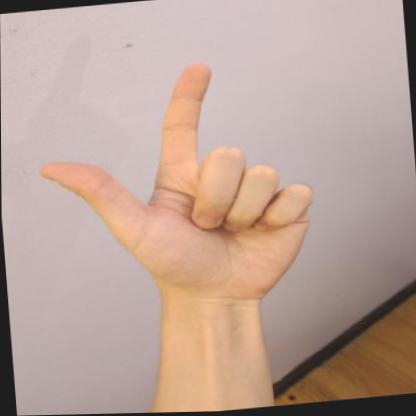L: (26, 48, 327, 326)
